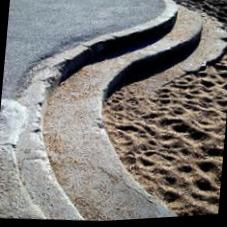Bench: (0, 62, 152, 203)
